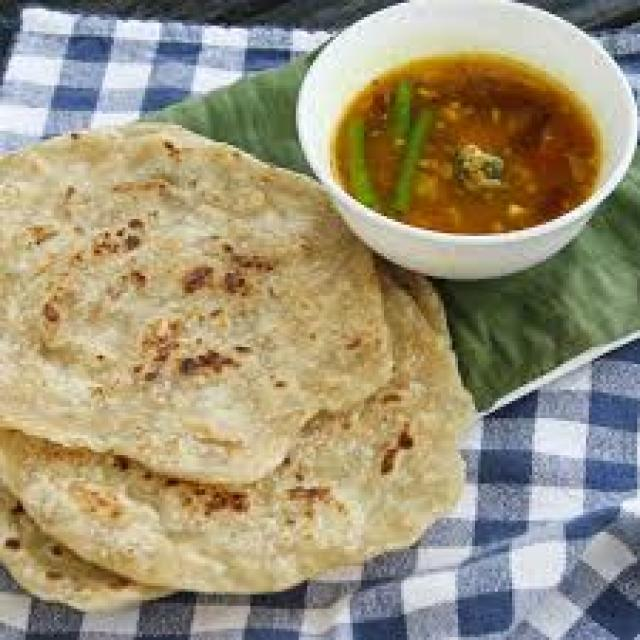Paratha: (27, 256, 515, 598), (0, 118, 374, 456)
